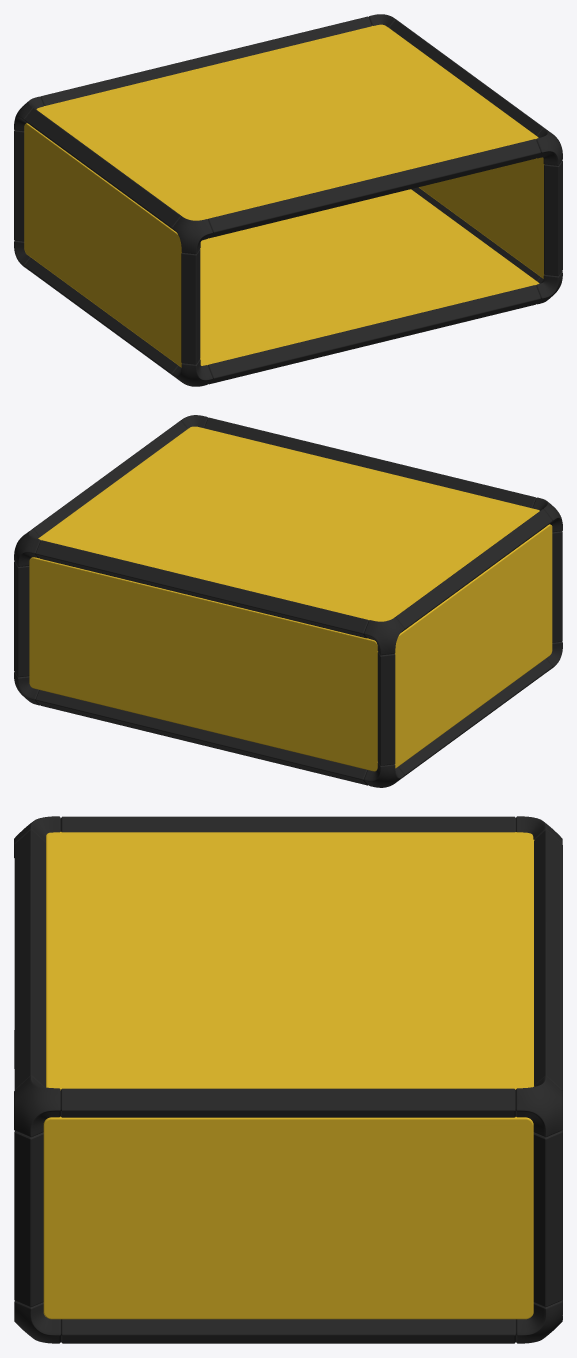
3 views of the same model, one above another, from view 1: azimuth 30°, elevation 25°; view 2: azimuth 150°, elevation 25°; view 3: azimuth 270°, elevation 25° (orthographic). The views are drawn at different scales.
Parts seen in each view (by area): view 1: 479x374x154; view 2: 479x374x154; view 3: 479x374x154.
Part boxes in pixels (box(x1,y1,x2,y2)): 479x374x154: box(14, 14, 562, 386); 479x374x154: box(14, 415, 562, 787); 479x374x154: box(14, 816, 562, 1343).
Bounding box in the file's own units: 0.5567 × 0.2316 × 0.4513.
